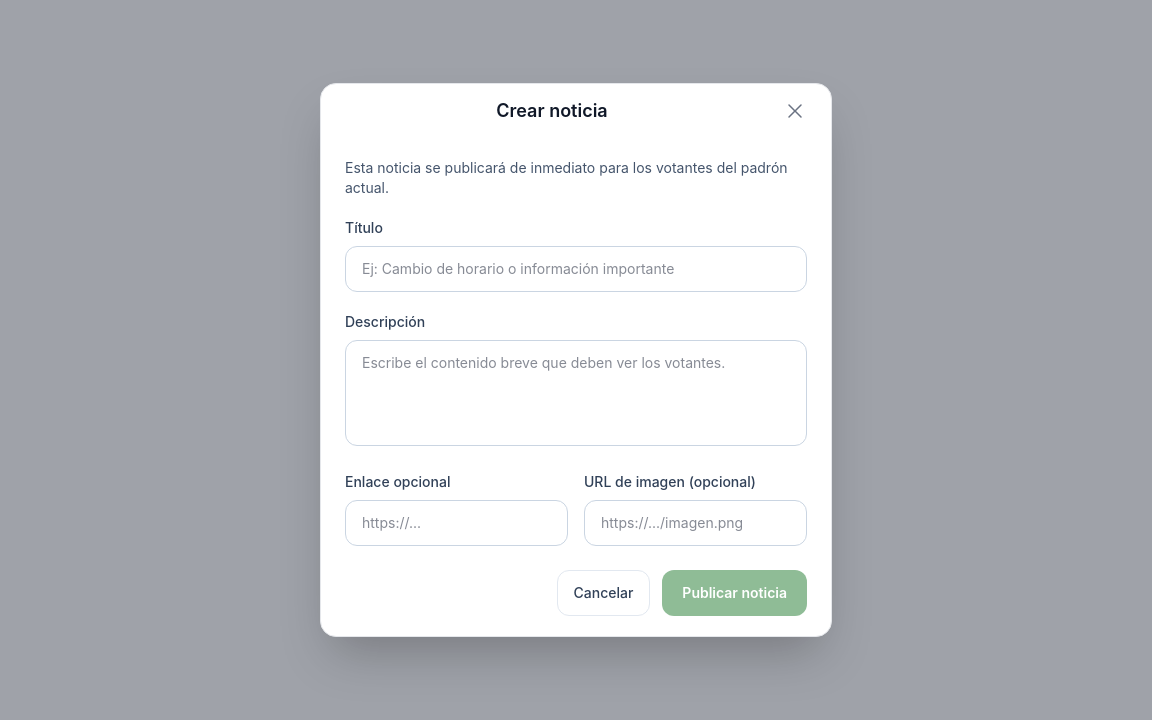
Test: CreateNewsModal › muestra errores de API sin cerrar el modal
Type "Nueva noticia" into the field labelled "Título".
click(576, 269); type("Nueva noticia")  # box [345,246,807,292]
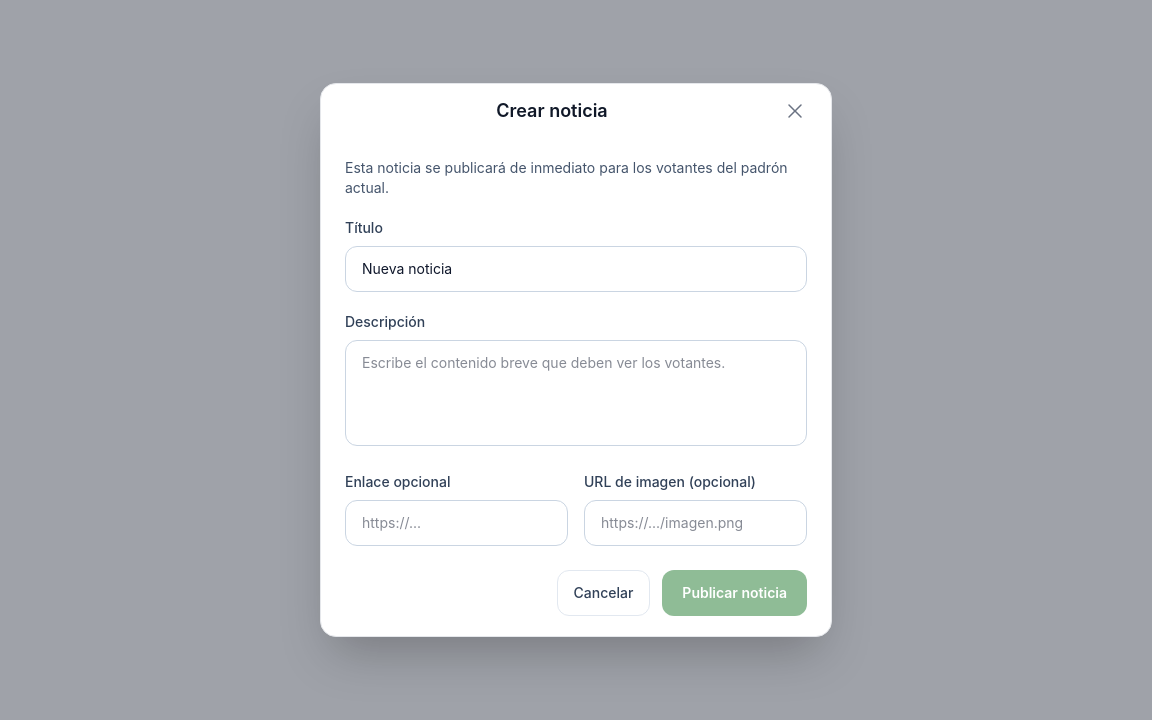
Type "Contenido importante" into the text box labelled "Descripción".
click(576, 393); type("Contenido importante")  # box [345,340,807,446]
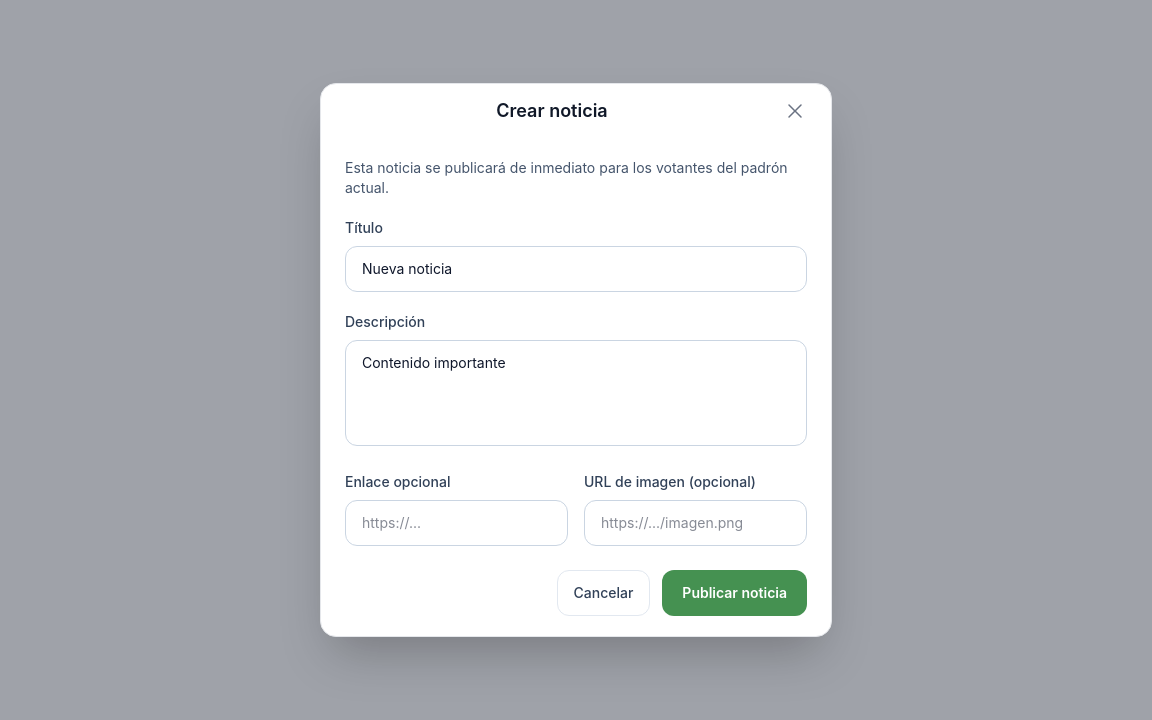
Click the button "Publicar noticia".
click(735, 593)  # box [662,570,807,616]
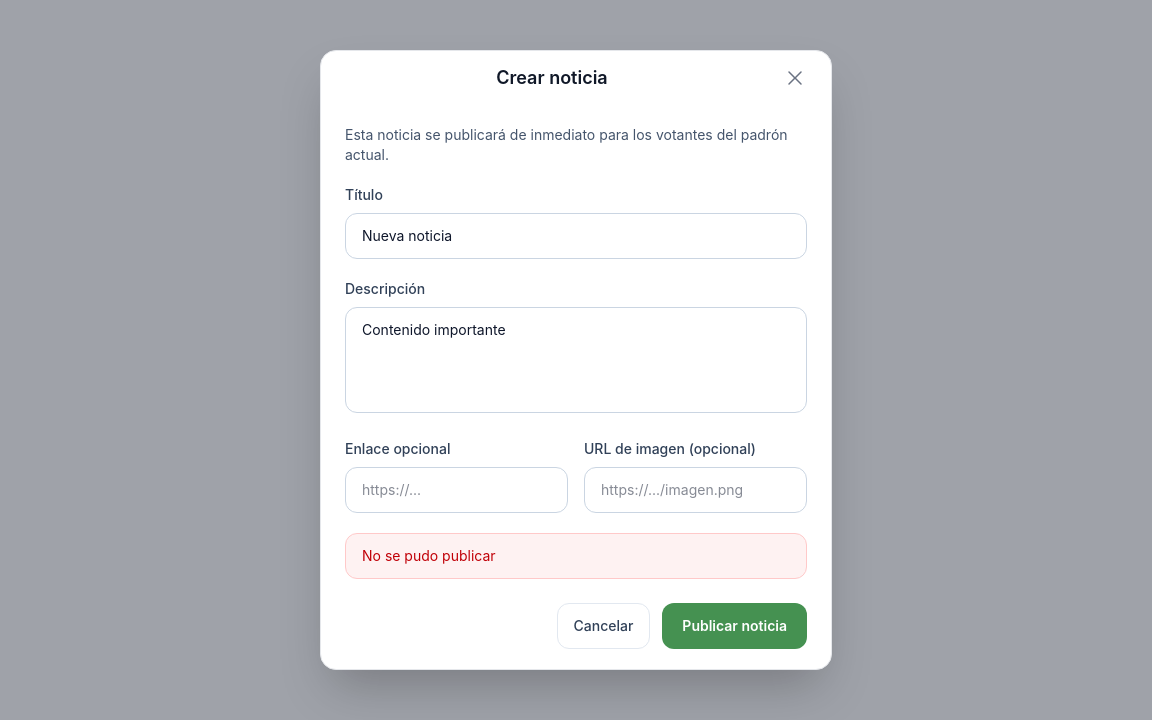
Check: the text "No se pudo publicar" is shown, box [345,533,807,579]
